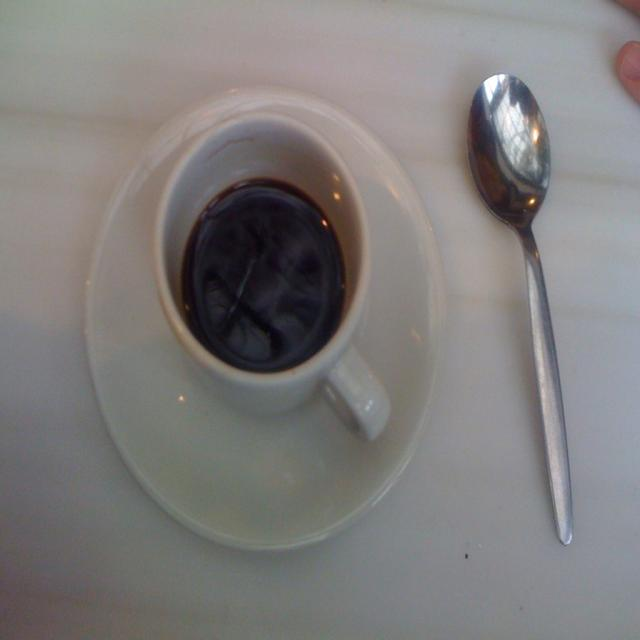Coffee: (180, 182, 348, 370)
